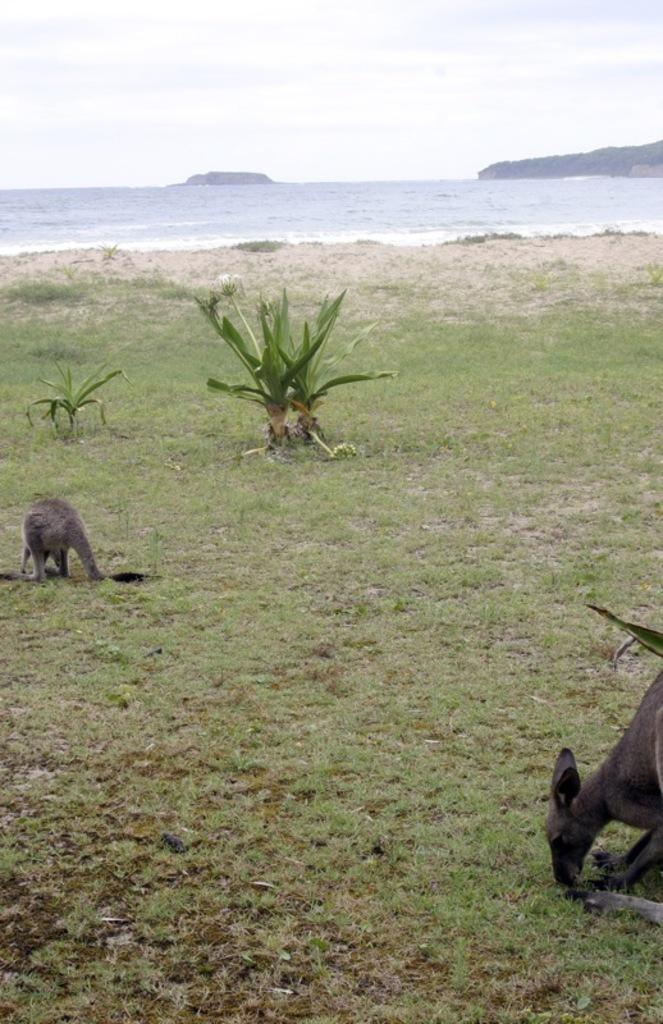kangaroo: (546, 660, 662, 920), (10, 494, 138, 591)
